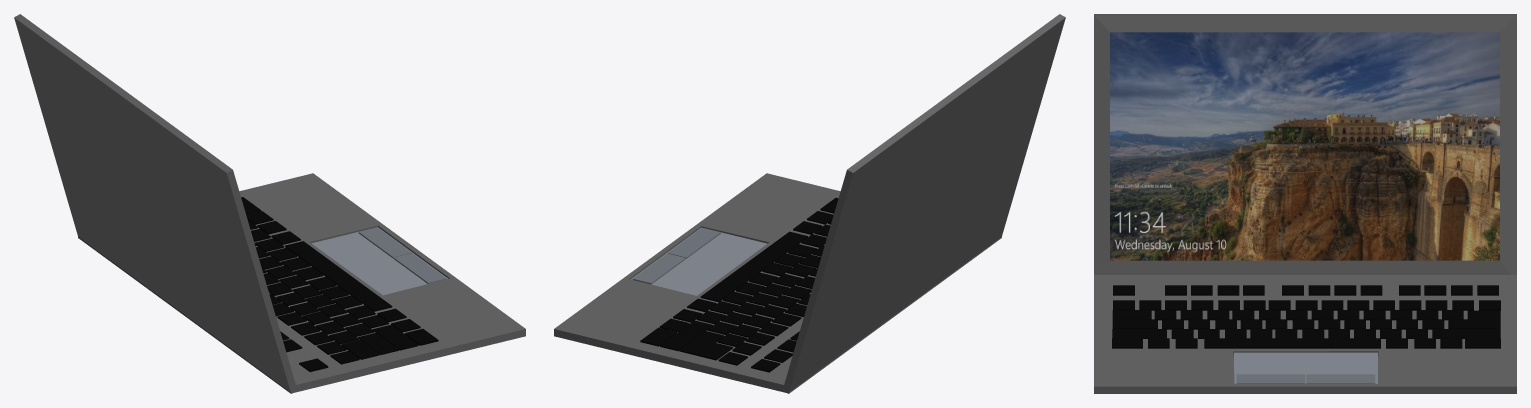
File: ManishaLaptop.fbx
The picture shows the model from 3 angles, left to right: view 1: azimuth 30°, elevation 25°; view 2: azimuth 150°, elevation 25°; view 3: azimuth 270°, elevation 25°; orthographic projection.
Parts seen in each view (by area): view 1: Cube.001, Cube, Cube.077, Cube.069, Cube.078, Cube.079, Cube.034, Cube.030; view 2: Cube.001, Cube, Cube.077, Cube.069, Cube.079, Cube.049, Cube.078, Cube.035; view 3: Plane, Cube, Cube.001, Cube.077, Cube.069, Cube.078, Cube.079, Cube.049, Cube.034, Cube.035, Cube.030, Cube.044 (+1 smaller).
Part boxes in pixels (x1,y1,x2,y2): Cube.001: (14, 14, 297, 393); Cube: (78, 173, 525, 393); Cube.077: (311, 227, 448, 295); Cube.069: (285, 241, 392, 311); Cube.078: (393, 253, 446, 283); Cube.079: (358, 227, 411, 258); Cube.034: (372, 324, 418, 350); Cube.030: (358, 332, 399, 354); Cube.001: (784, 14, 1065, 393); Cube: (554, 173, 1001, 393); Cube.077: (631, 227, 766, 295); Cube.069: (700, 231, 807, 302); Cube.079: (632, 253, 685, 284); Cube.049: (660, 320, 712, 351); Cube.078: (668, 227, 720, 258); Cube.035: (679, 331, 724, 354); Plane: (1110, 32, 1499, 260); Cube: (1094, 275, 1516, 393); Cube.001: (1094, 14, 1516, 274); Cube.077: (1234, 352, 1377, 383); Cube.069: (1204, 338, 1380, 348); Cube.078: (1236, 374, 1305, 383); Cube.079: (1306, 374, 1375, 383); Cube.049: (1432, 329, 1500, 338); Cube.034: (1112, 329, 1166, 338); Cube.035: (1448, 319, 1500, 328); Cube.030: (1112, 319, 1157, 328); Cube.044: (1112, 310, 1151, 319).
Bounding box in the file's own units: 258 × 196 × 317.
